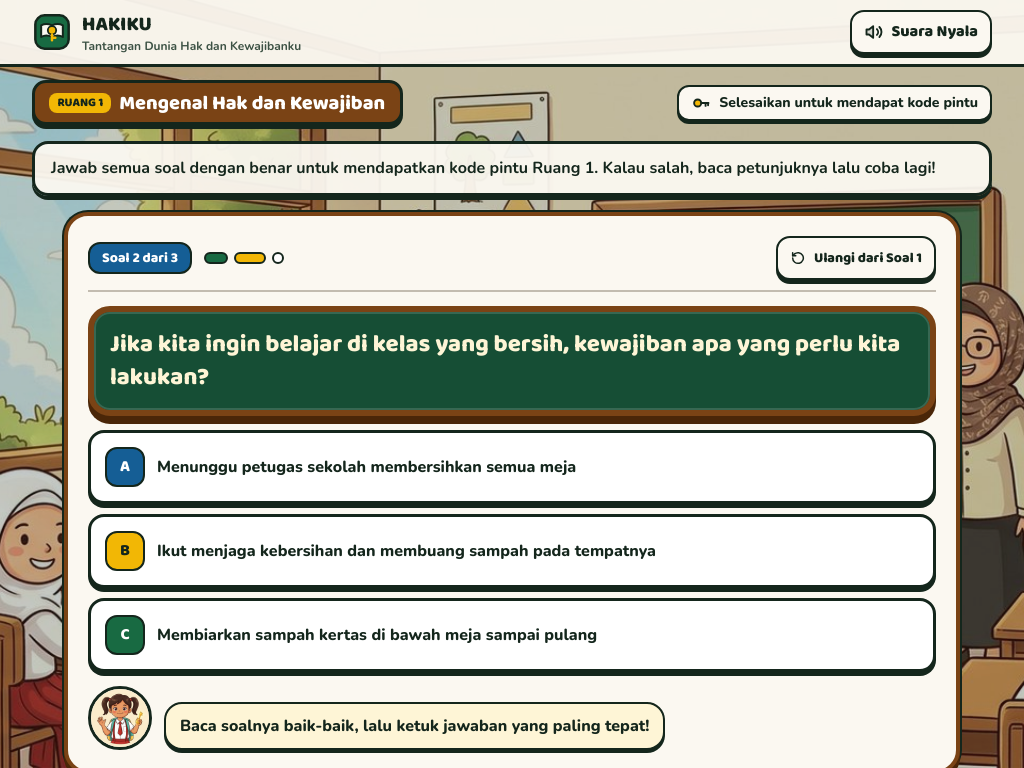
Test: Aplikasi HAKIKU hybrid › Ruang 1: jawaban salah memberi petunjuk, semua benar memunculkan kode pintu
Earlier steps of the test are not shown.
Click the button "B Ikut menjaga kebersihan dan membuang sampah pada tempatnya": x=512, y=551 x1=88 y1=514 x2=936 y2=588
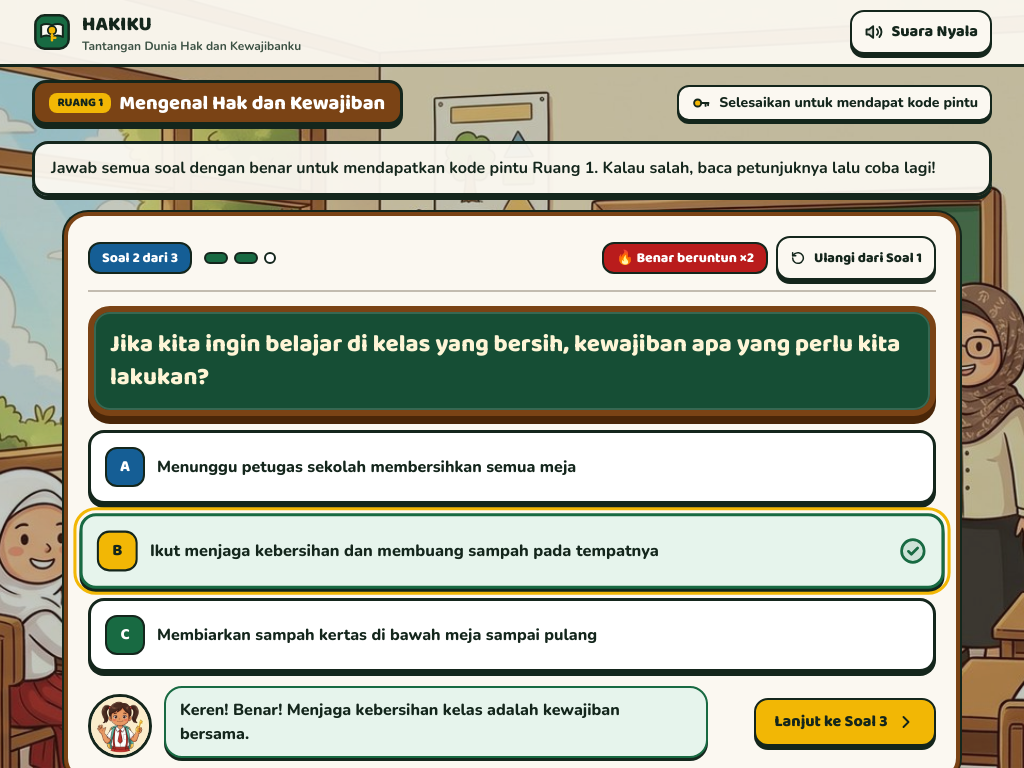
Click the button "Lanjut ke Soal 3": x=845, y=722 x1=754 y1=698 x2=936 y2=746
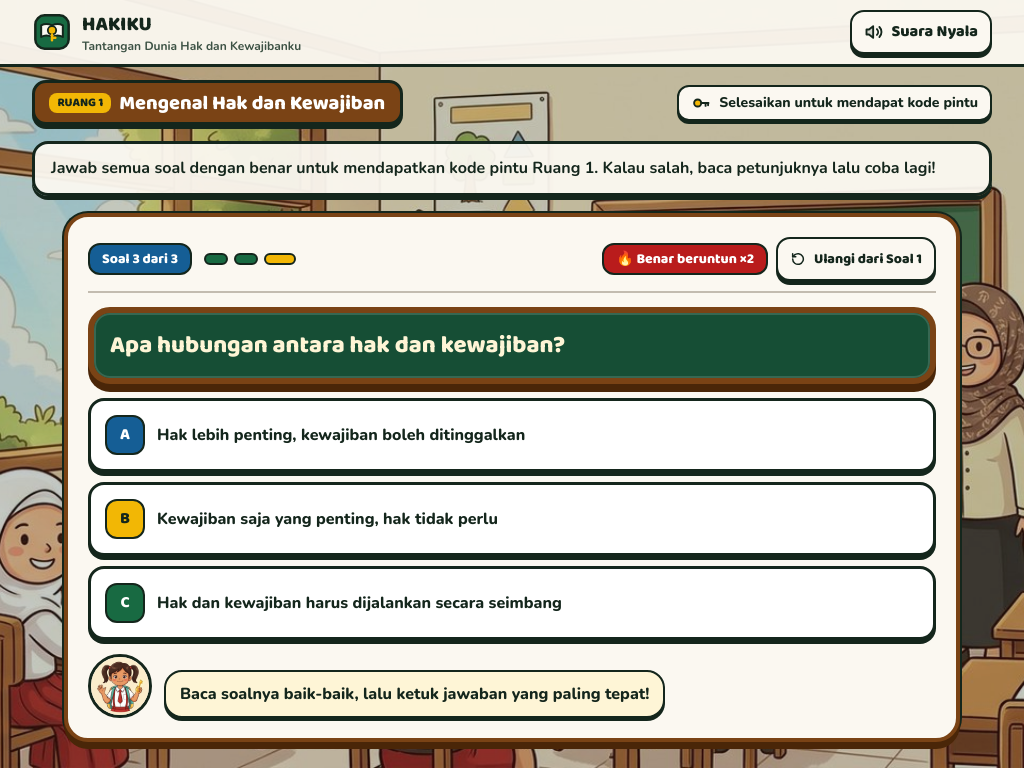
Click the button "C Hak dan kewajiban harus dijalankan secara seimbang": x=512, y=604 x1=88 y1=566 x2=936 y2=640
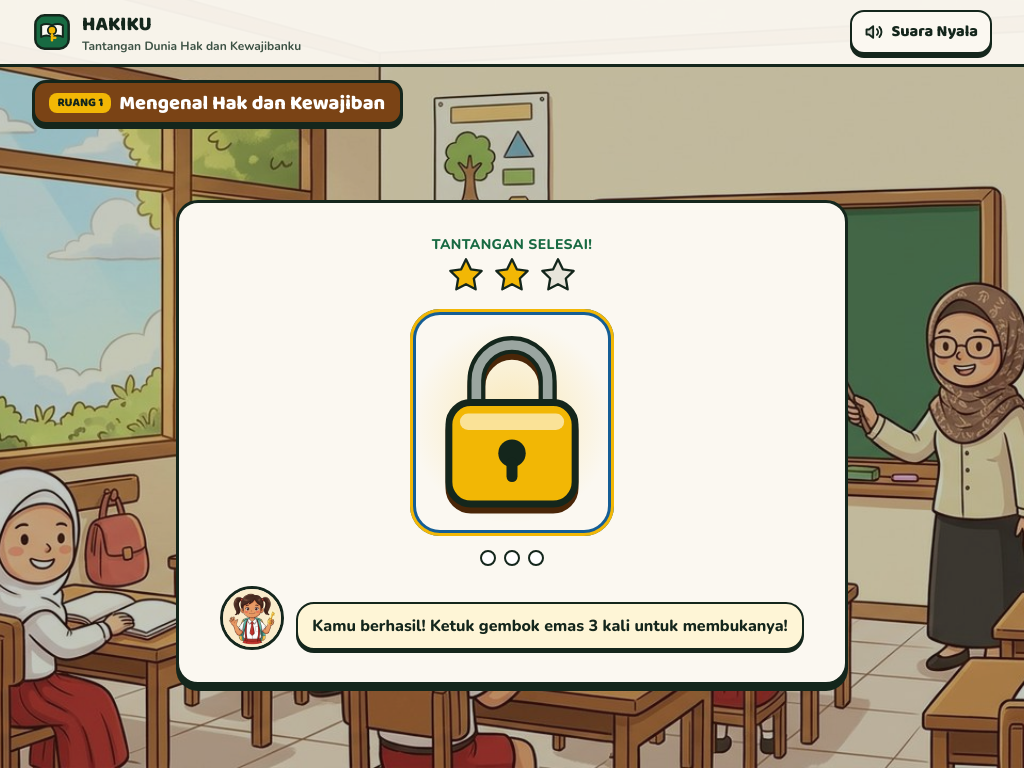
Expected: the picture named "2 dari 3 bintang" is shown, x1=446 y1=255 x2=578 y2=295
Click the button named "Buka gembok": x=512, y=423 x1=416 y1=315 x2=608 y2=530
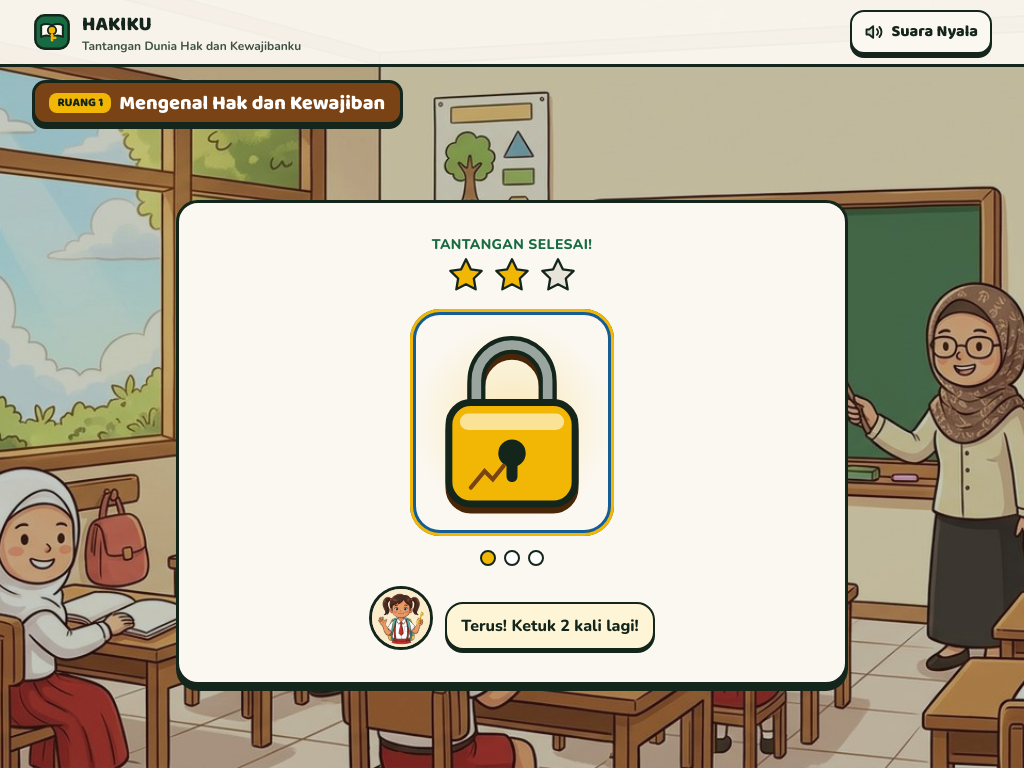
Click the button named "Buka gembok": x=512, y=423 x1=416 y1=315 x2=608 y2=530
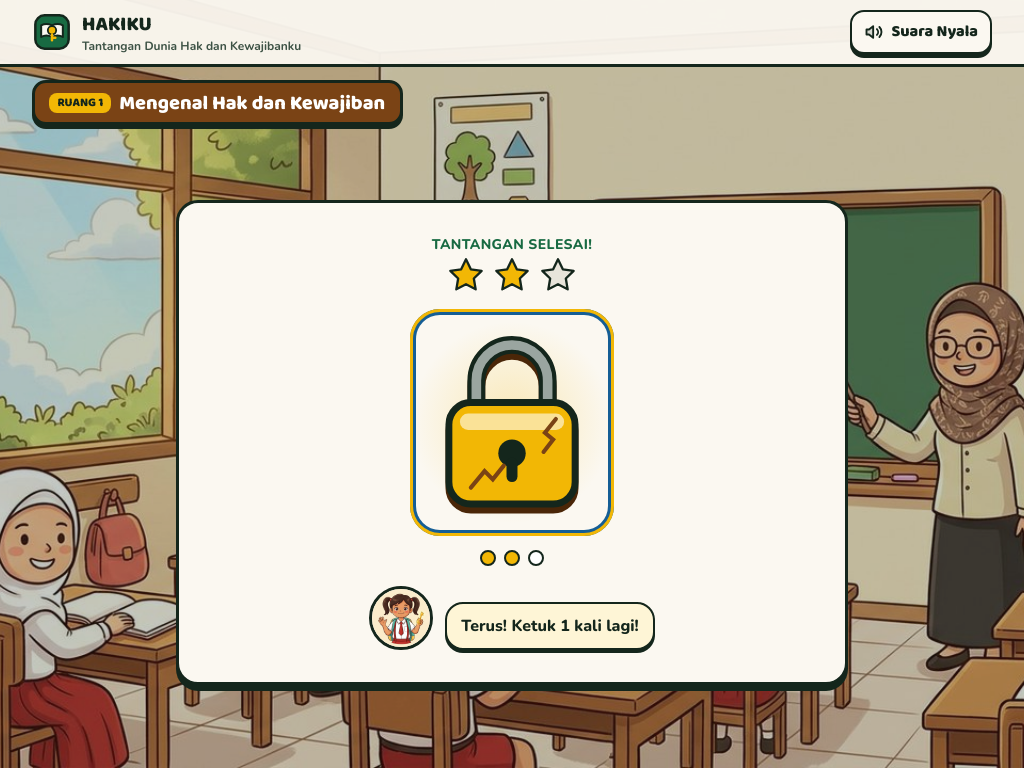
Click the button named "Buka gembok": x=512, y=423 x1=416 y1=315 x2=608 y2=530
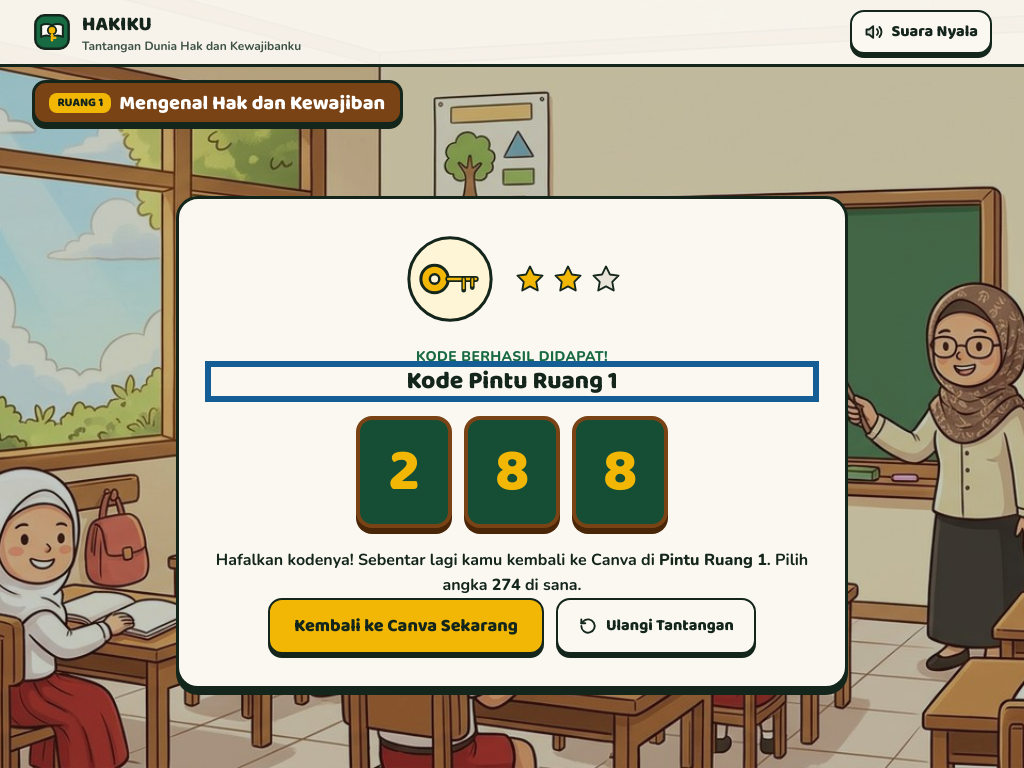
Expected: the heading "Kode Pintu Ruang 1" is shown, x1=211 y1=367 x2=813 y2=396
